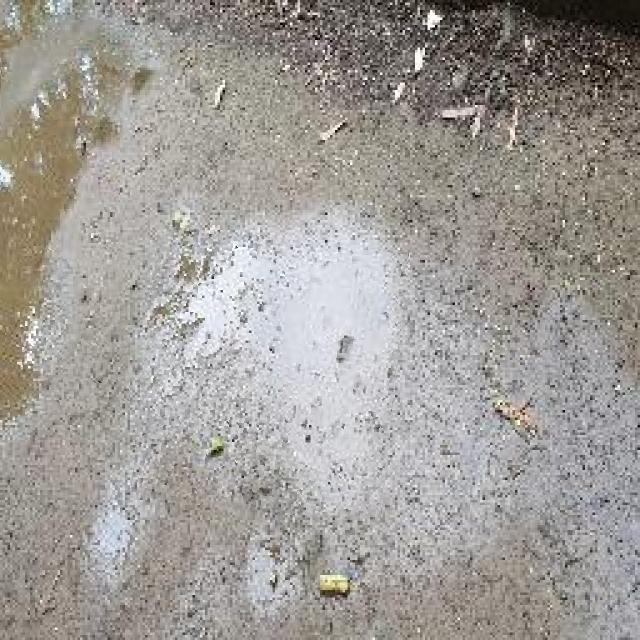puddle: (138, 232, 403, 517), (1, 45, 126, 416)
